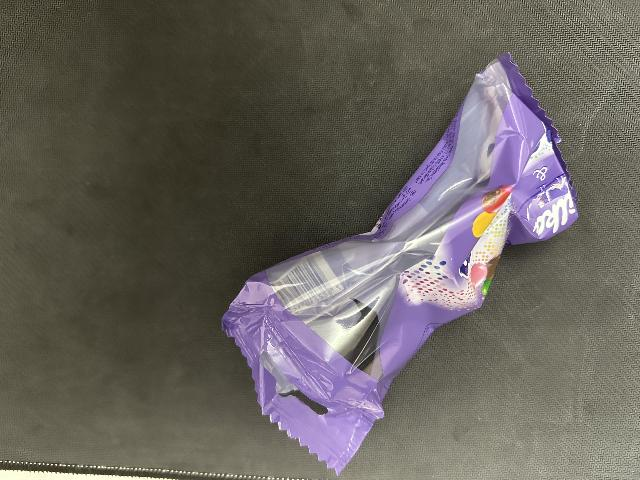Plastik: (225, 56, 584, 480)
